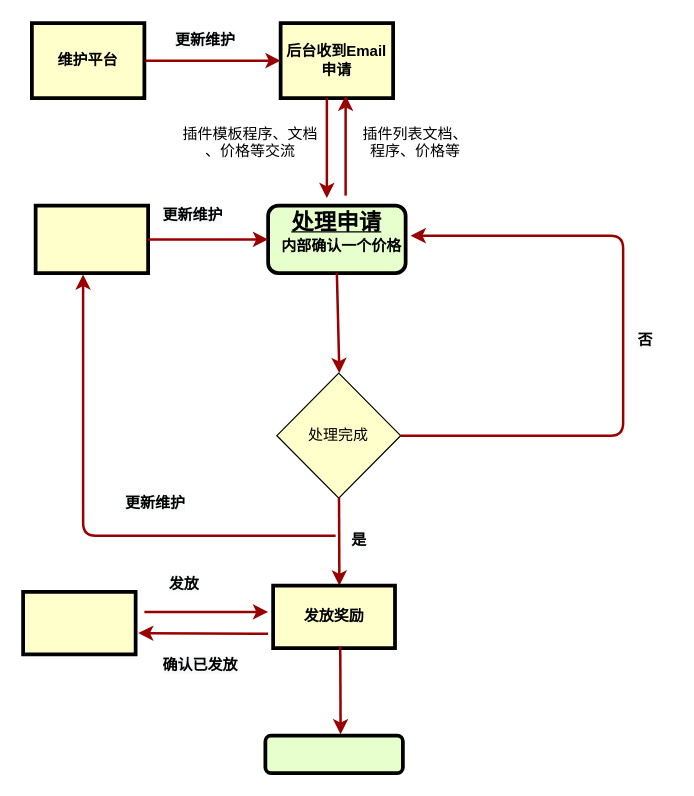
This 694x796 diagram has some shape labels left out. The centre of each missing label's shape, as x and y in pixels:
"完成" goes at pixel 333 753.
"插件列表、价格表、文档、程序等" goes at pixel 91 238.
"财务确认金额" goes at pixel 79 622.
